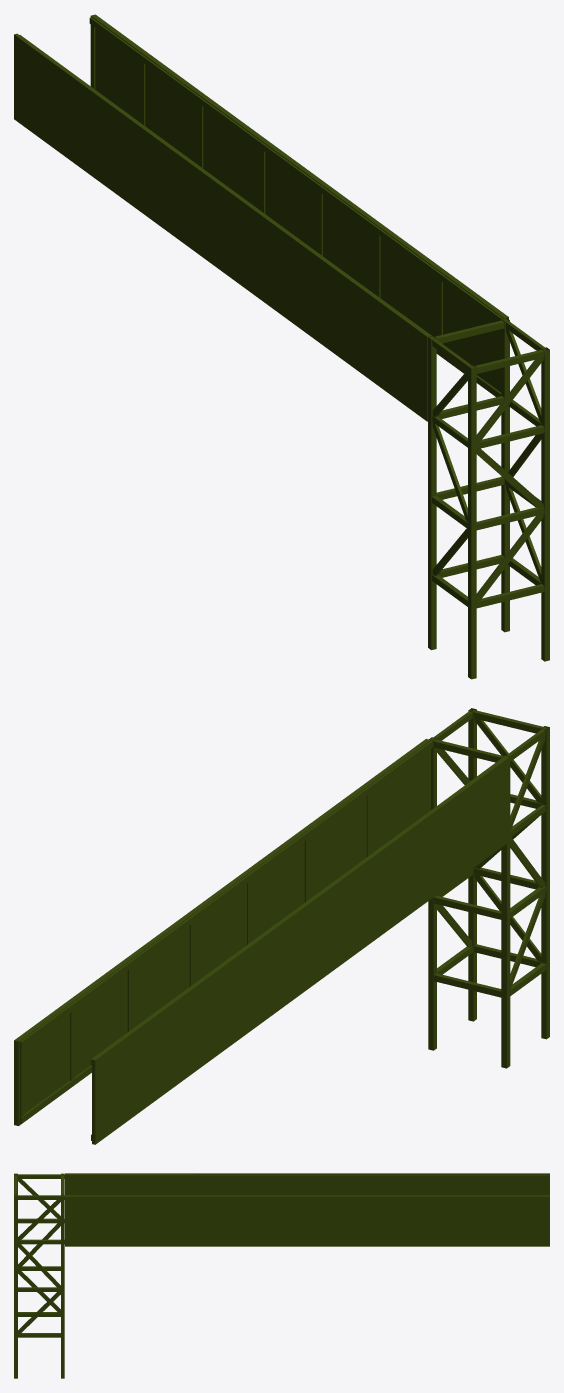
Rendered from T1_Billboard01b_M.fbx.
3 views of the same model, one above another, from view 1: azimuth 30°, elevation 25°; view 2: azimuth 150°, elevation 25°; view 3: azimuth 270°, elevation 25° (orthographic). The views are drawn at different scales.
Parts seen in each view (by area): view 1: T1_Billboard01b; view 2: T1_Billboard01b; view 3: T1_Billboard01b.
Boxes of the visible parts, x1=… form: T1_Billboard01b: x1=14, y1=14, x2=549, y2=679; T1_Billboard01b: x1=14, y1=708, x2=549, y2=1144; T1_Billboard01b: x1=14, y1=1173, x2=549, y2=1378.
Size of the model in its own units: 0.8491 by 3.09 by 8.23.
